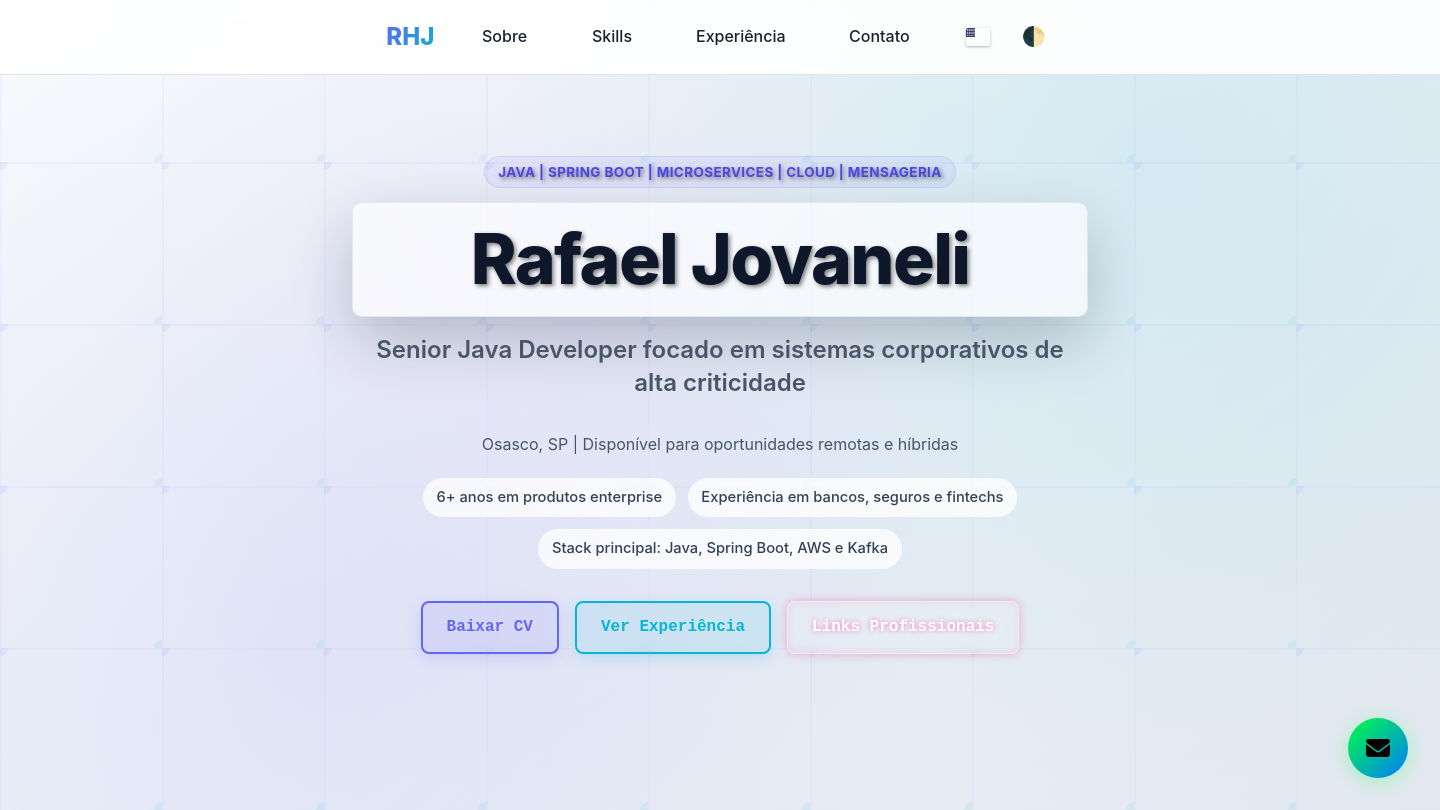
Test: App › toggles language and updates navigation labels
Click the button named "switch to english": click(978, 37) [958, 20, 998, 54]
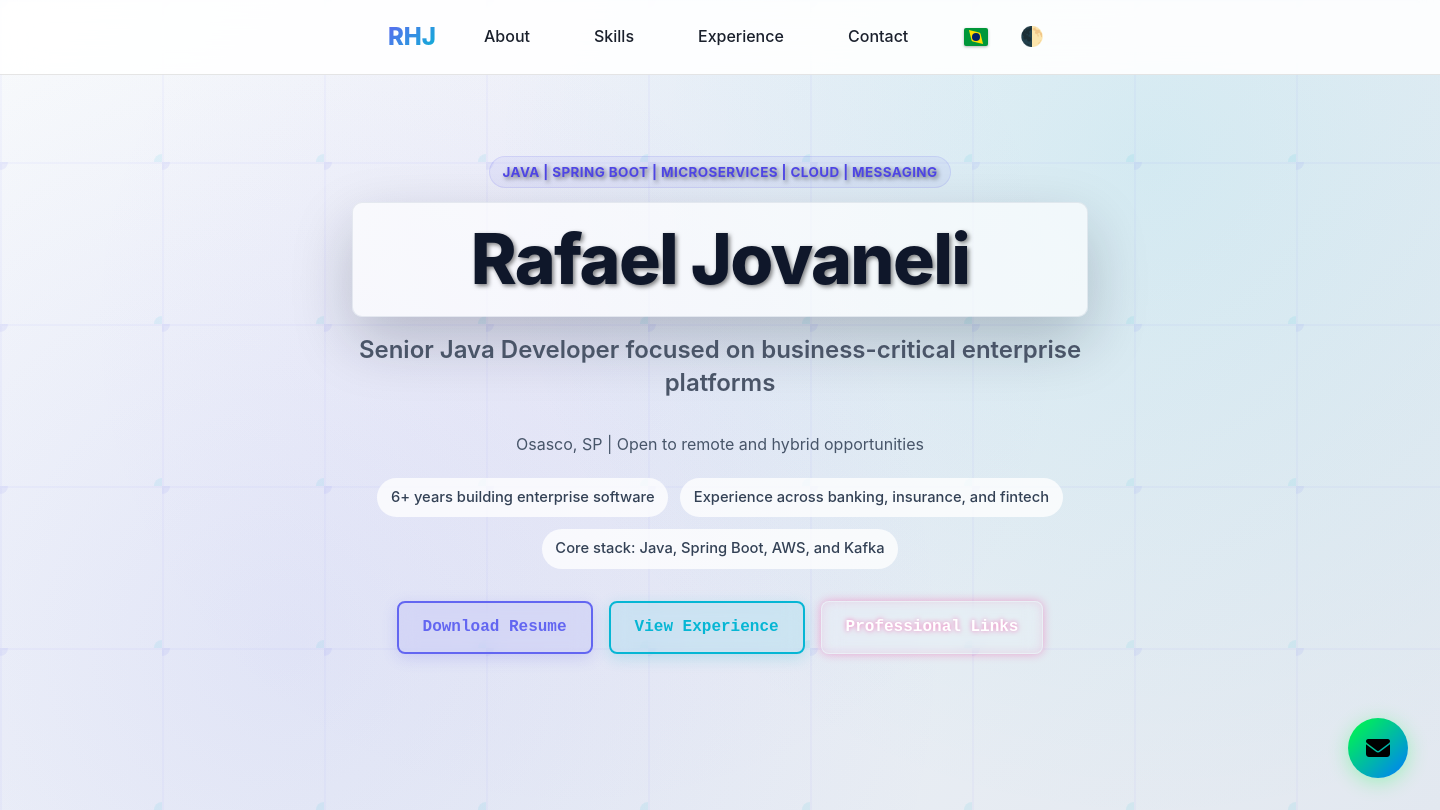
Now the menu item "About" is shown, box [468, 16, 546, 58]
Now the menu item "Contact" is shown, box [832, 16, 924, 58]
